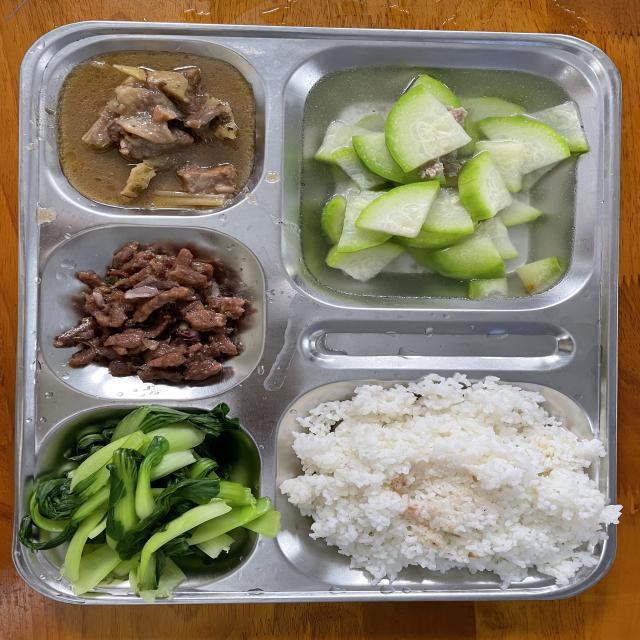bo xao: (81, 65, 239, 199), (175, 160, 238, 197)
canh bau: (301, 67, 589, 297)
com: (280, 374, 619, 584)
kho tieu: (54, 242, 250, 381)
rau: (21, 404, 279, 601)
